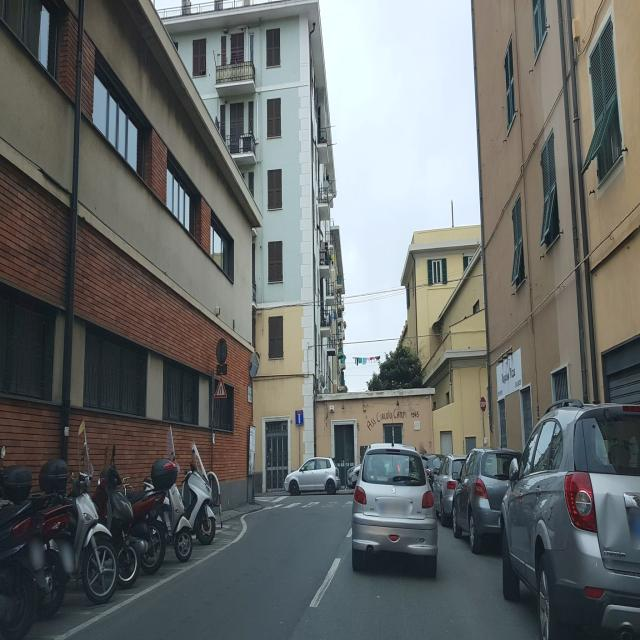bike: (34, 456, 116, 606), (0, 454, 66, 640), (96, 460, 165, 575), (89, 444, 139, 589), (148, 442, 216, 546), (144, 450, 194, 562)
car: (500, 398, 640, 639), (351, 442, 438, 576), (452, 446, 521, 552), (432, 454, 467, 526), (284, 456, 340, 496), (348, 465, 362, 490)
